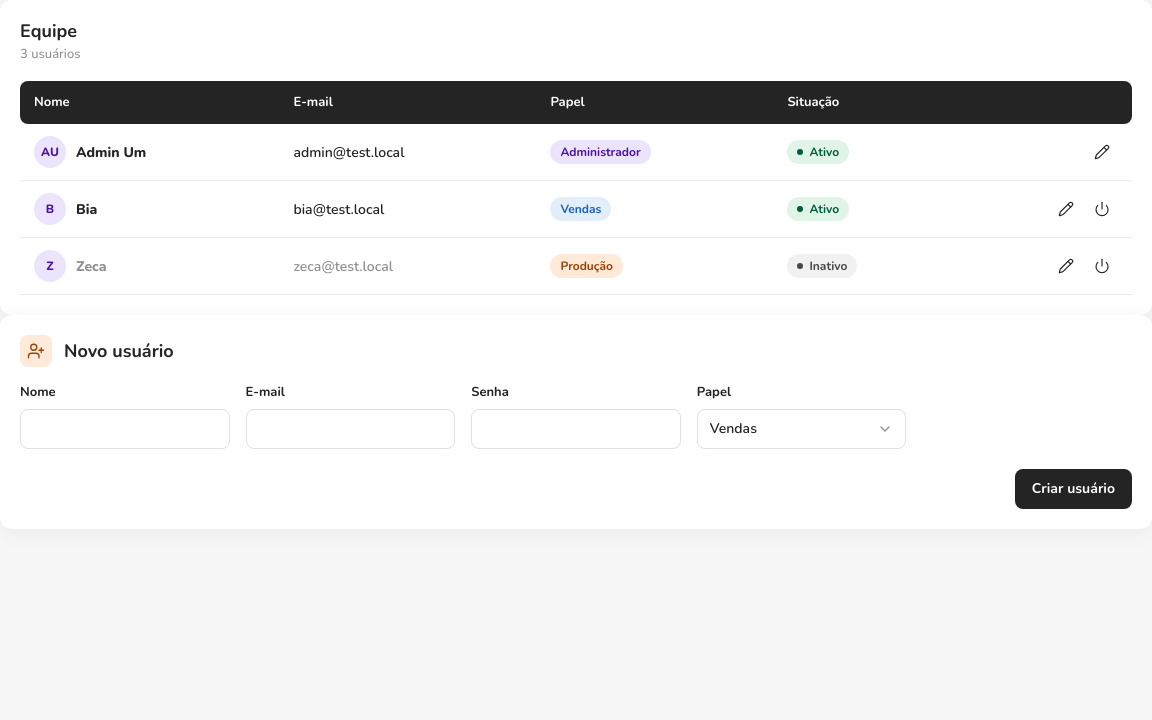
Scenario: Users page › edit error keeps the row open with typed values
Click the button named "Editar" in the row of "bia@test.local": (1066, 209) [1050, 193, 1082, 225]
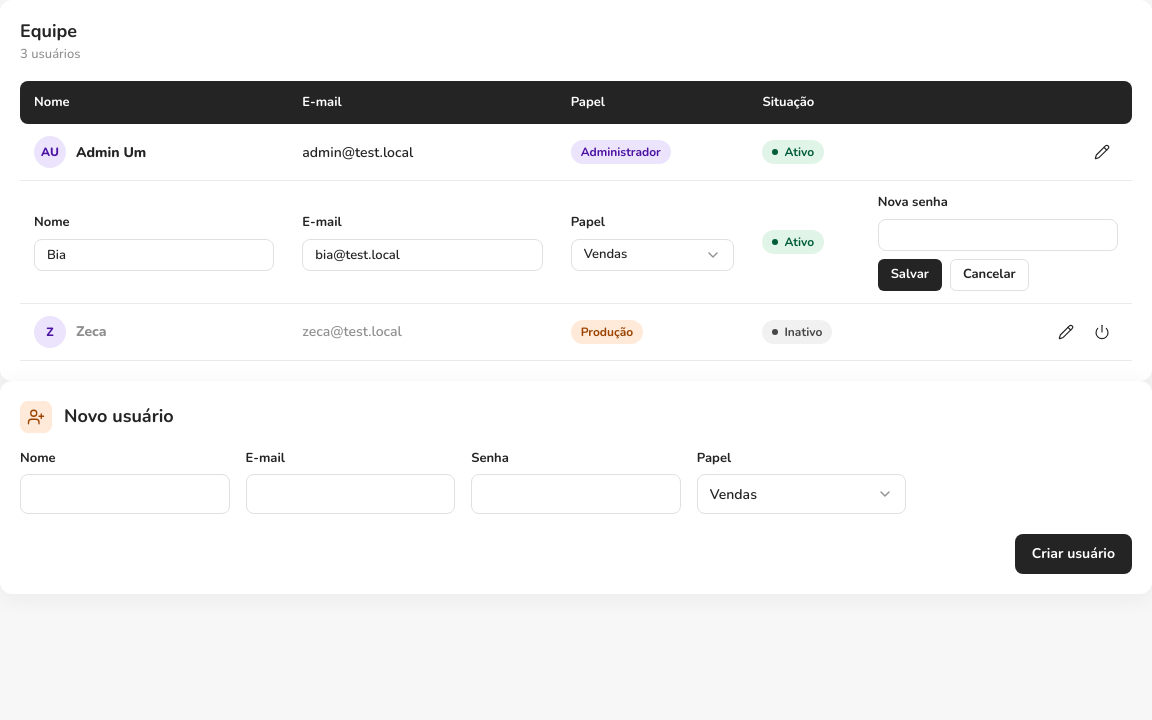
Replace the text in the field labelled "E-mail" below "Admin Um" with "conflito@test.local": (422, 255) [302, 239, 543, 271]
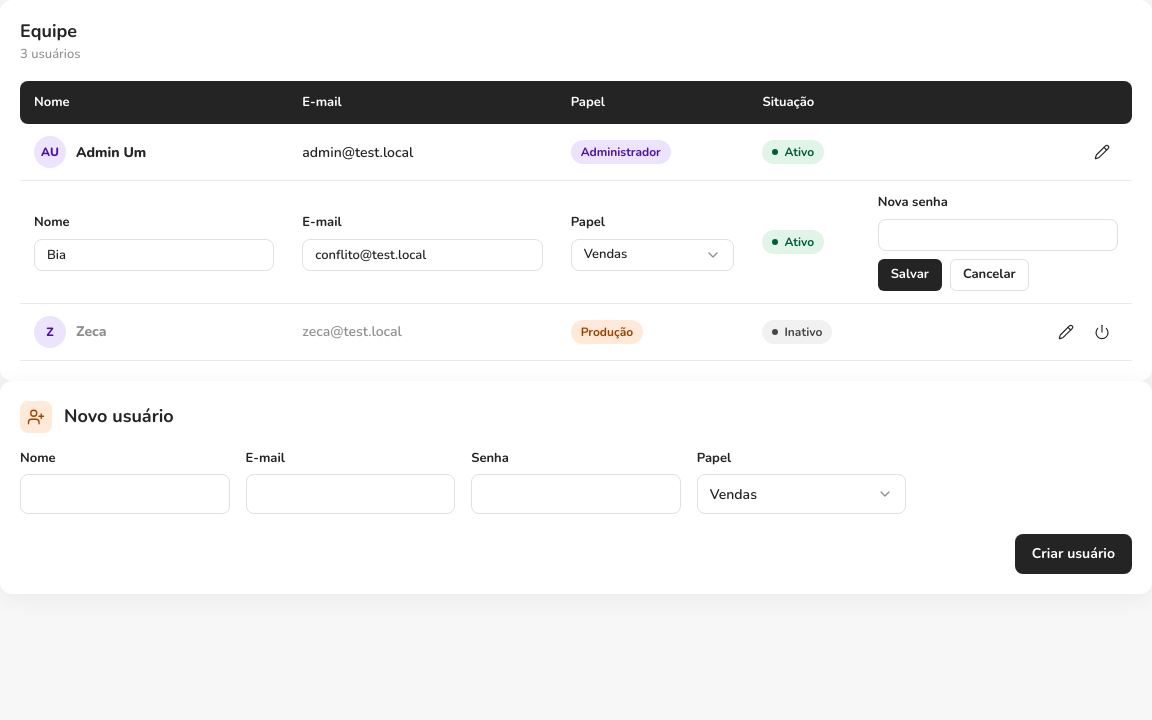
Click the button "Salvar": (910, 275) [878, 259, 942, 291]
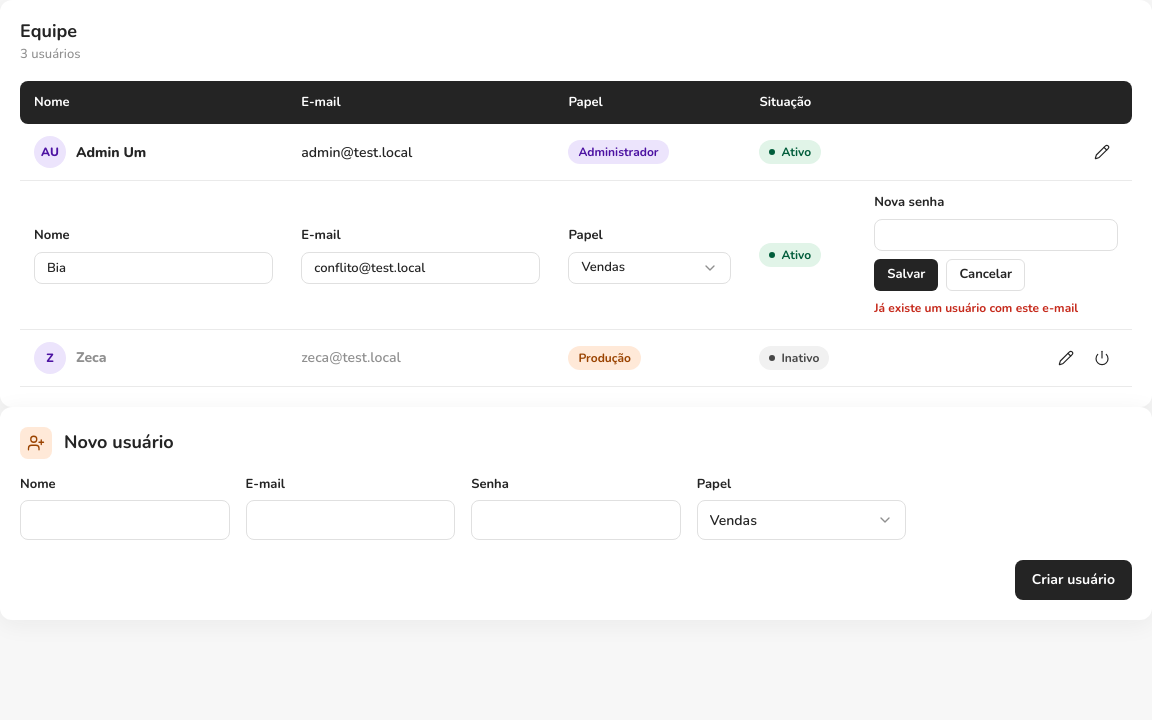
Expected: the text "Já existe um usuário com este e-mail" is shown, [874, 300, 1078, 316]
